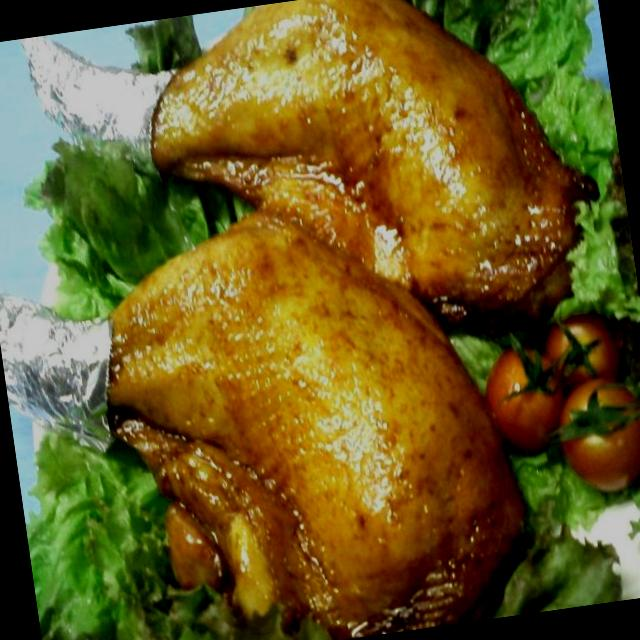Chicken: (0, 171, 550, 640)
